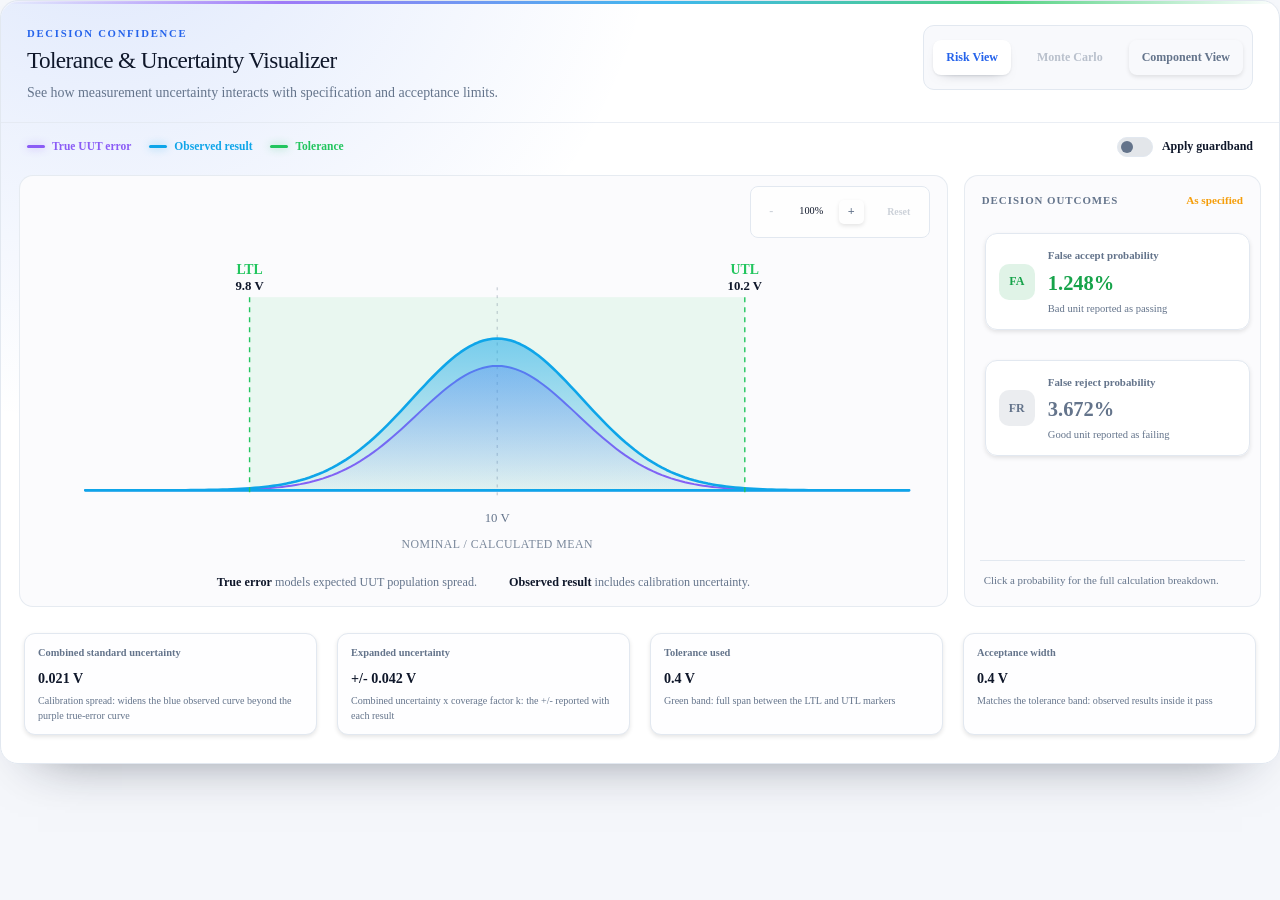
switches between risk, guardband, and component views
expect the text "As specified" is shown: met, box [1186, 192, 1243, 210]
expect the text "1.248%" is shown: met, box [1048, 272, 1114, 294]
What coordinates should you click on to do the following:
click the checkbox labelled "Apply guardband"
I would click on:
 (1185, 147)
Its box is [1117, 137, 1253, 157].
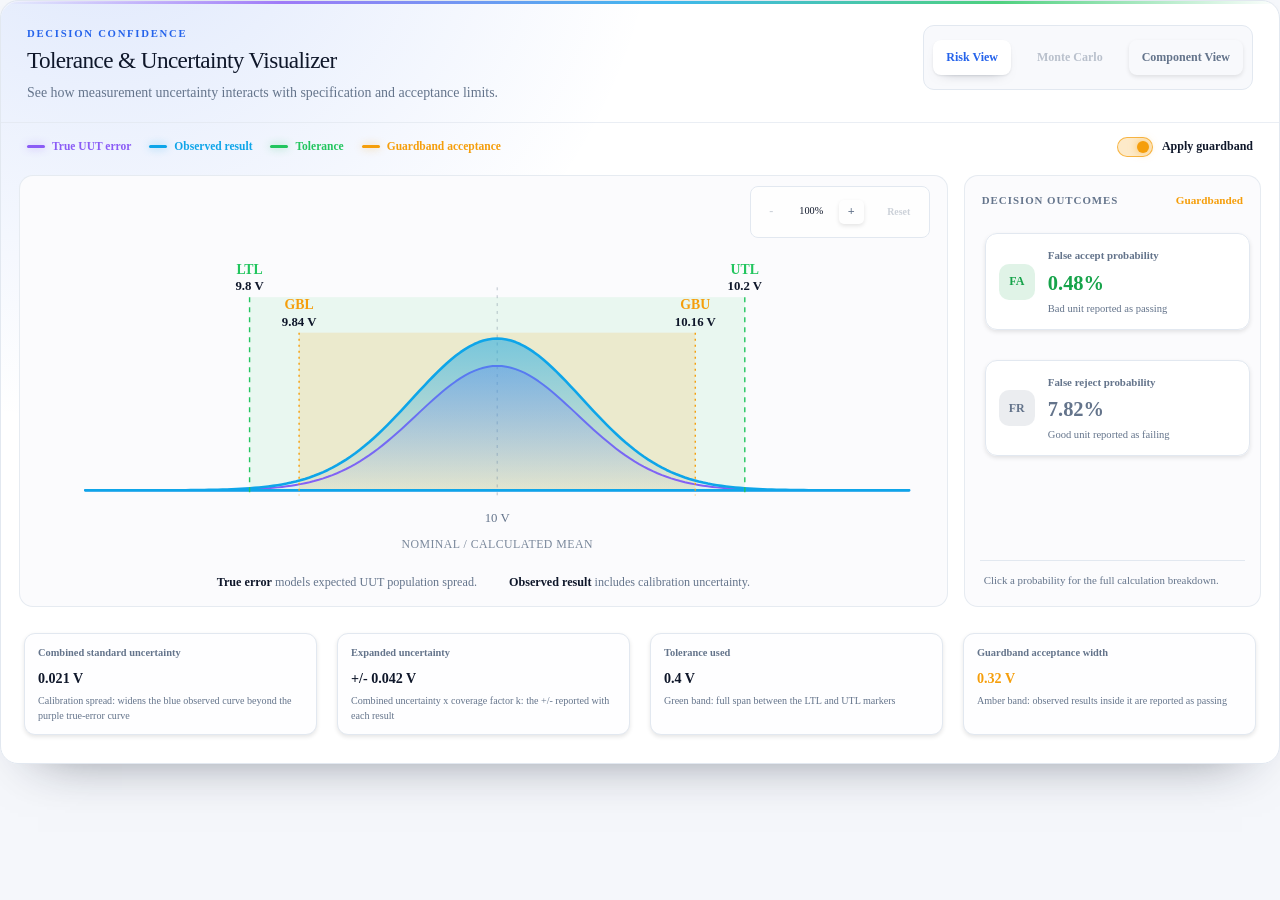
expect the text "Guardbanded" is shown: met, box [1176, 192, 1243, 210]
expect the text "0.48%" is shown: met, box [1048, 272, 1104, 294]
expect the text "Guardband acceptance width" is shown: met, box [977, 647, 1108, 658]
What coordinates should you click on to do the following:
click the button named "Zoom in"
I would click on:
 (851, 212)
Its box is [839, 200, 864, 224].
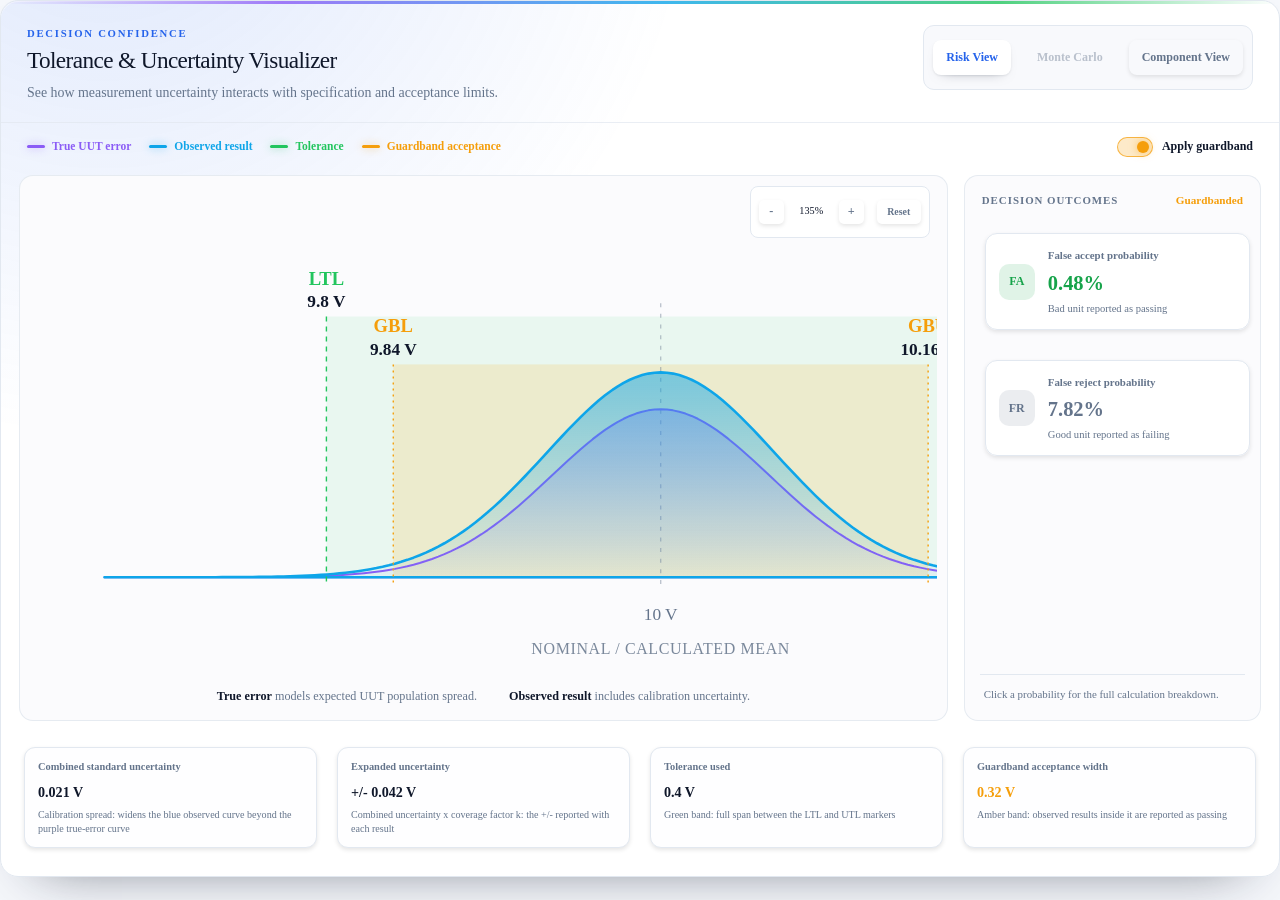
expect the text "135%" is shown: met, box [799, 205, 823, 216]
What coordinates should you click on to do the following:
click the button "Component View"
I would click on:
 (1186, 58)
Its box is [1129, 40, 1243, 75].
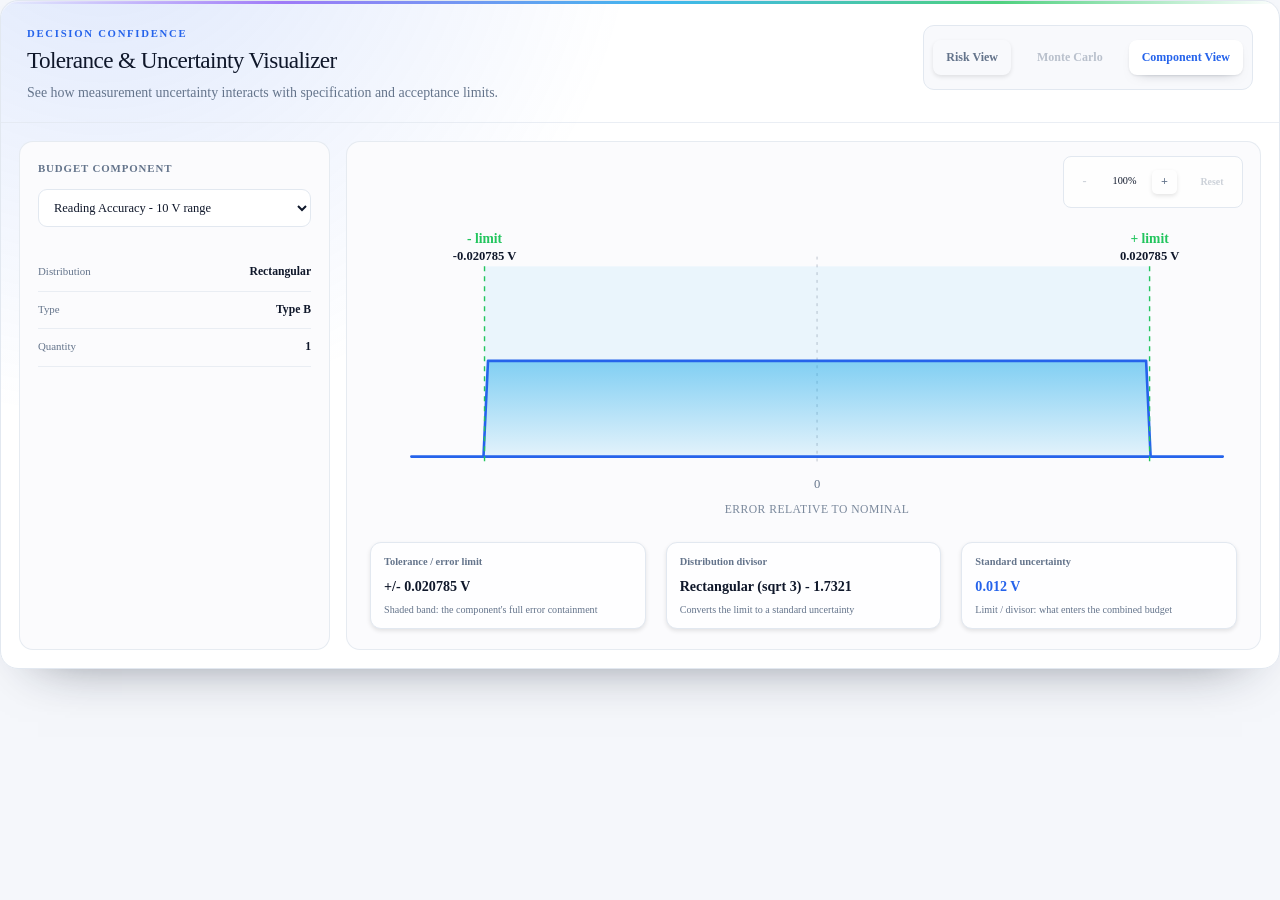
expect the dropdown labelled "Budget component" shows "Reading Accuracy - 10 V range": met, box [38, 189, 311, 227]
expect the text "Rectangular" is shown: met, box [250, 263, 311, 282]
expect the text "Standard uncertainty" is shown: met, box [975, 556, 1071, 567]
